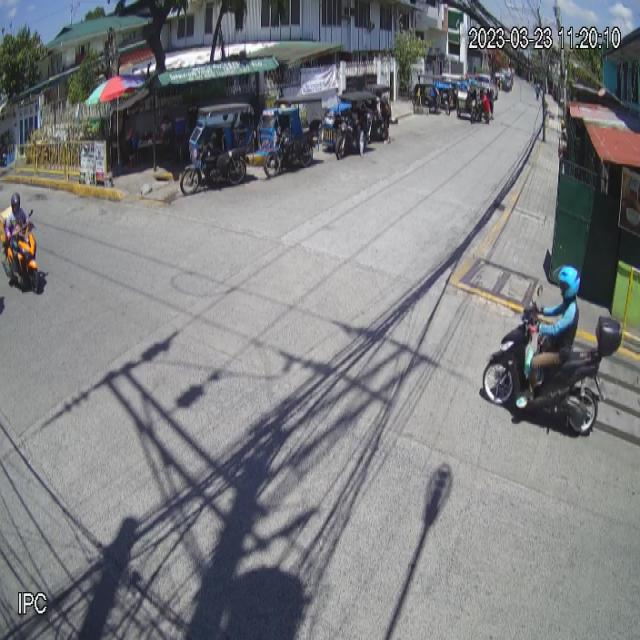Motorcycle: (481, 282, 620, 439), (0, 208, 48, 292)
